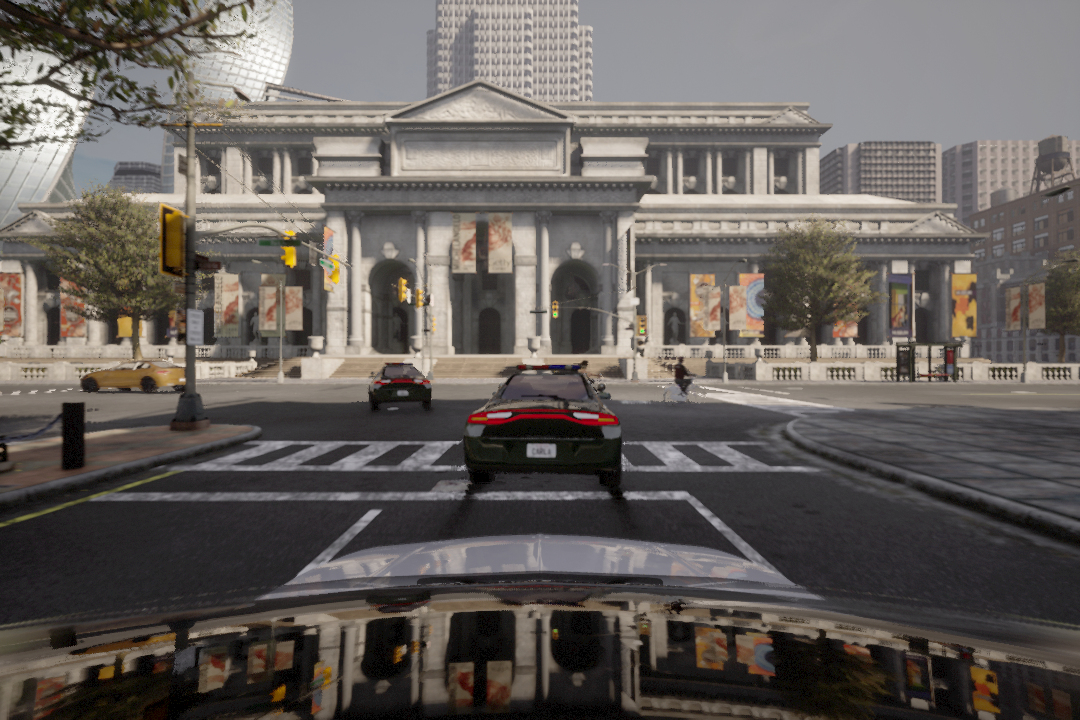TrafficLight: (548, 297, 561, 320), (635, 315, 648, 335)
walkside: (202, 435, 820, 476)
